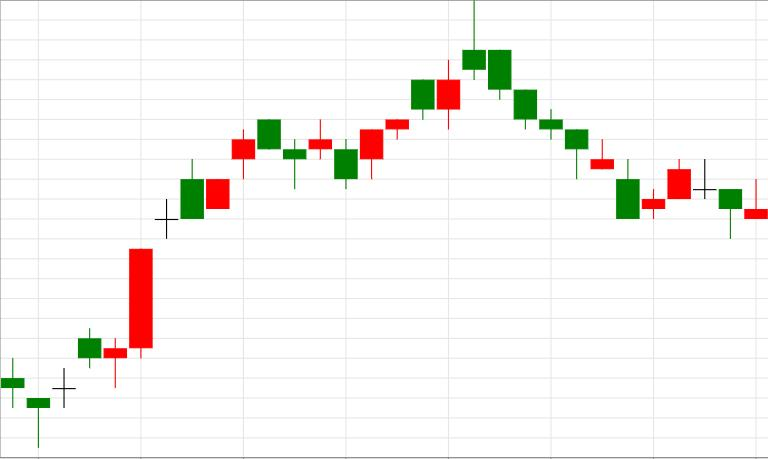shooting_star_fall: (361, 0, 485, 180)
